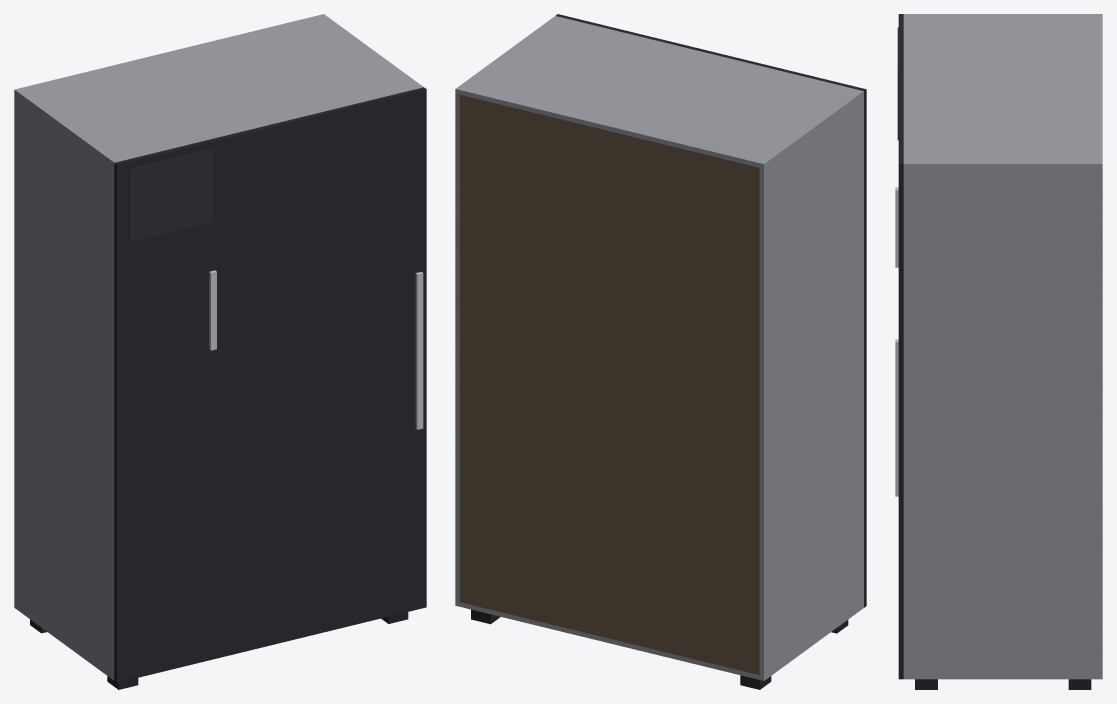
Rendered from growbox_v3.glb.
3 renders of one model, left to right at view 1: azimuth 30°, elevation 25°; view 2: azimuth 150°, elevation 25°; view 3: azimuth 270°, elevation 25°, orthographic.
Visible parts, largest first — view 1: ÐÐ²ÐµÑÑ_Ð·Ð¾Ð½Ñ_ÑÐ¾ÑÑÐ°, ÐÐ¾ÐºÐ¾Ð²Ð¸Ð½Ð°_Ð»ÐµÐ²Ð°Ñ, ÐÑÑÑÐºÐ°, Ð¤Ð°ÑÐ°Ð´_ÑÐµÑÐ·Ð¾Ð½Ñ_Ð²ÐµÑÑ, Ð¤Ð°ÑÐ°Ð´_ÑÑÐ¸ÐºÐ°_Ð±Ð°Ðº, Ð¤Ð°ÑÐ°Ð´_ÑÑÐ¸ÐºÐ°_Ð¿Ð¾Ð¼Ð¿Ð°, Ð ÐµÑÑÑÐºÐ°_Ð²ÑÑÐ¾Ð´Ð°_Ð²_ÐºÐ¾Ð¼Ð½Ð°ÑÑ, Ð ÑÑÐºÐ°_Ð´Ð²ÐµÑÐ¸, Ð ÑÑÐºÐ°_ÑÐµÑÐ·Ð¾Ð½Ñ; view 2: ÐÑÐ³Ð°Ð»Ð¸Ñ_ÐºÐ¾Ð»Ð¾Ð´ÑÐ°, ÐÐ¾ÐºÐ¾Ð²Ð¸Ð½Ð°_Ð»ÐµÐ²Ð°Ñ, ÐÑÑÑÐºÐ°, ÐÐ¾ÐºÐ¾Ð²Ð¸Ð½Ð°_Ð¿ÑÐ°Ð²Ð°Ñ, ÐÐ½Ð¾, Ð¤Ð°ÑÐ°Ð´_ÑÐµÑÐ·Ð¾Ð½Ñ_Ð²ÐµÑÑ, ÐÐ²ÐµÑÑ_Ð·Ð¾Ð½Ñ_ÑÐ¾ÑÑÐ°; view 3: ÐÐ¾ÐºÐ¾Ð²Ð¸Ð½Ð°_Ð¿ÑÐ°Ð²Ð°Ñ, ÐÑÑÑÐºÐ°, ÐÐ²ÐµÑÑ_Ð·Ð¾Ð½Ñ_ÑÐ¾ÑÑÐ°, Ð ÑÑÐºÐ°_Ð´Ð²ÐµÑÐ¸, ÐÐ¾ÐºÐ¾Ð²Ð¸Ð½Ð°_Ð»ÐµÐ²Ð°Ñ.
Part boxes in pixels (box(x1,y1,x2,y2)): ÐÐ²ÐµÑÑ_Ð·Ð¾Ð½Ñ_ÑÐ¾ÑÑÐ°: box(221, 87, 426, 656); ÐÐ¾ÐºÐ¾Ð²Ð¸Ð½Ð°_Ð»ÐµÐ²Ð°Ñ: box(14, 88, 118, 680); ÐÑÑÑÐºÐ°: box(19, 15, 418, 161); Ð¤Ð°ÑÐ°Ð´_ÑÐµÑÐ·Ð¾Ð½Ñ_Ð²ÐµÑÑ: box(114, 137, 222, 470); Ð¤Ð°ÑÐ°Ð´_ÑÑÐ¸ÐºÐ°_Ð±Ð°Ðº: box(114, 522, 222, 682); Ð¤Ð°ÑÐ°Ð´_ÑÑÐ¸ÐºÐ°_Ð¿Ð¾Ð¼Ð¿Ð°: box(114, 444, 222, 547); Ð ÐµÑÑÑÐºÐ°_Ð²ÑÑÐ¾Ð´Ð°_Ð²_ÐºÐ¾Ð¼Ð½Ð°ÑÑ: box(129, 149, 213, 242); Ð ÑÑÐºÐ°_Ð´Ð²ÐµÑÐ¸: box(415, 272, 423, 429); Ð ÑÑÐºÐ°_ÑÐµÑÐ·Ð¾Ð½Ñ: box(209, 270, 216, 350); ÐÑÐ³Ð°Ð»Ð¸Ñ_ÐºÐ¾Ð»Ð¾Ð´ÑÐ°: box(455, 94, 759, 675); ÐÐ¾ÐºÐ¾Ð²Ð¸Ð½Ð°_Ð»ÐµÐ²Ð°Ñ: box(759, 90, 863, 680); ÐÑÑÑÐºÐ°: box(460, 17, 858, 167); ÐÐ¾ÐºÐ¾Ð²Ð¸Ð½Ð°_Ð¿ÑÐ°Ð²Ð°Ñ: box(455, 16, 558, 606); ÐÐ½Ð¾: box(460, 602, 759, 679); Ð¤Ð°ÑÐ°Ð´_ÑÐµÑÐ·Ð¾Ð½Ñ_Ð²ÐµÑÑ: box(758, 63, 866, 395); ÐÐ²ÐµÑÑ_Ð·Ð¾Ð½Ñ_ÑÐ¾ÑÑÐ°: box(555, 14, 760, 65); ÐÐ¾ÐºÐ¾Ð²Ð¸Ð½Ð°_Ð¿ÑÐ°Ð²Ð°Ñ: box(903, 162, 1102, 679); ÐÑÑÑÐºÐ°: box(903, 16, 1102, 161); ÐÐ²ÐµÑÑ_Ð·Ð¾Ð½Ñ_ÑÐ¾ÑÑÐ°: box(898, 65, 903, 679); Ð ÑÑÐºÐ°_Ð´Ð²ÐµÑÐ¸: box(895, 339, 898, 496); ÐÐ¾ÐºÐ¾Ð²Ð¸Ð½Ð°_Ð»ÐµÐ²Ð°Ñ: box(903, 14, 1102, 15).
Bounding box in the file's own units: 1250 × 2060 × 730.
